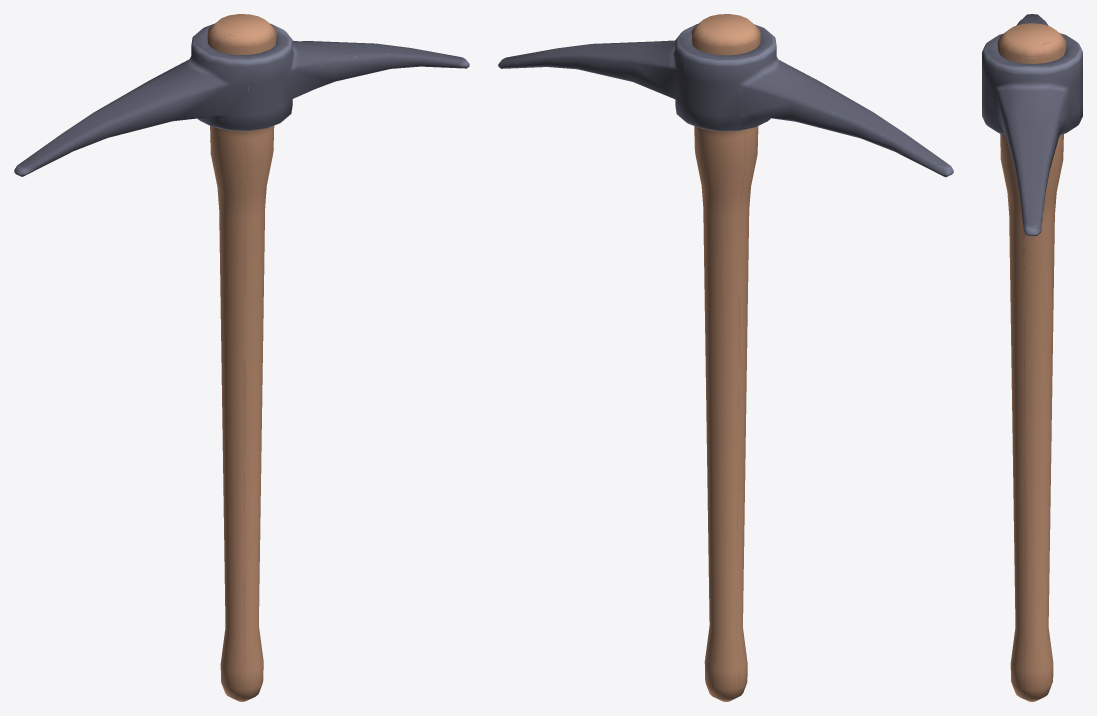
The model's file is PicaretaGenerica.fbx.
3 views of the same model, side by side, from view 1: azimuth 30°, elevation 25°; view 2: azimuth 150°, elevation 25°; view 3: azimuth 270°, elevation 25° (orthographic).
Parts seen in each view (by area): view 1: Picareta generica; view 2: Picareta generica; view 3: Picareta generica.
Boxes of the visible parts, x1=… form: Picareta generica: x1=14, y1=14, x2=469, y2=701; Picareta generica: x1=498, y1=14, x2=953, y2=701; Picareta generica: x1=982, y1=14, x2=1082, y2=701.
Bounding box in the file's own units: 73.37 × 105 × 14.35.
Materials: 1 (1 with a texture image).
